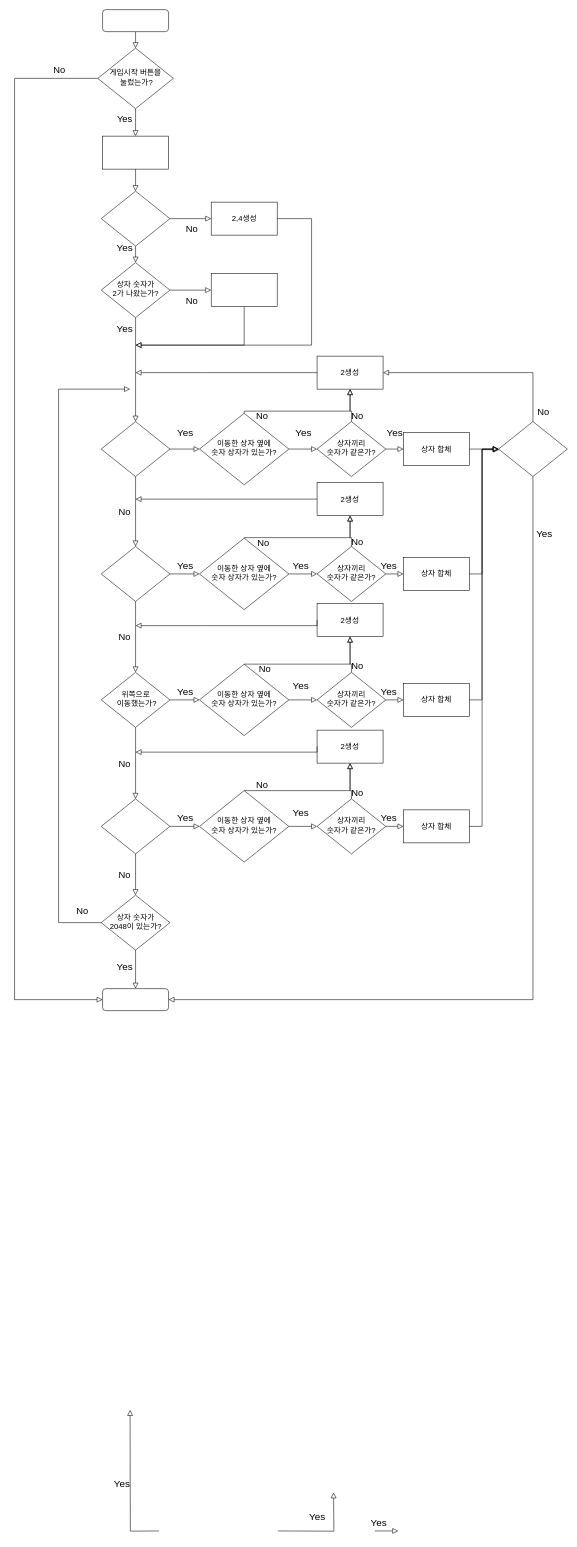
This 577x1547 diagram has some shape labels left out. The shapes that lost their labels are listed below. From the top down, each one's centre as x and y in pixels, then its label:
At [135,20]: "게임시작".
At [135,152]: "상자 생성".
At [135,218]: "상자가 1개 나왔는가?".
At [244,290]: "4생성".
At [135,449]: "오른쪽으로 이동했는가?".
At [532,449]: "상자 숫자가 2048인가?".
At [135,573]: "왼쪽으로 이동했는가?".
At [135,826]: "아래쪽으로 이동했는가?".
At [135,999]: "게임종료".
